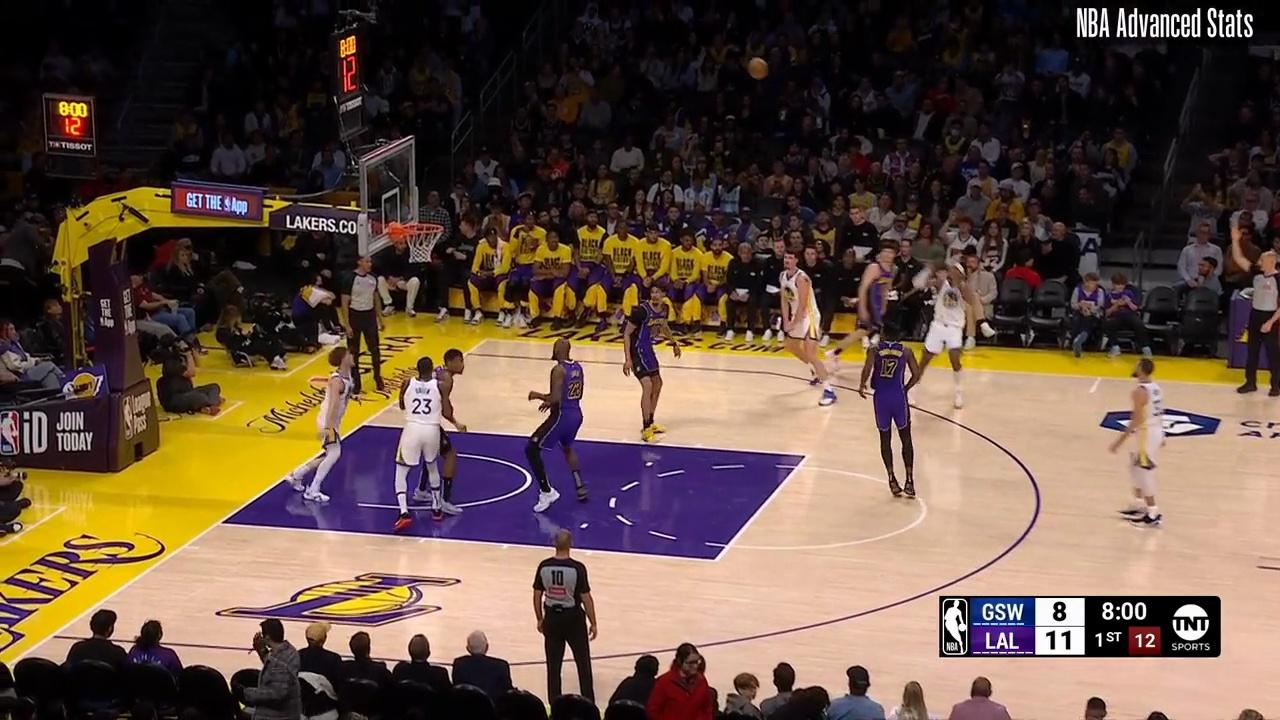basketball: (746, 53, 771, 82)
